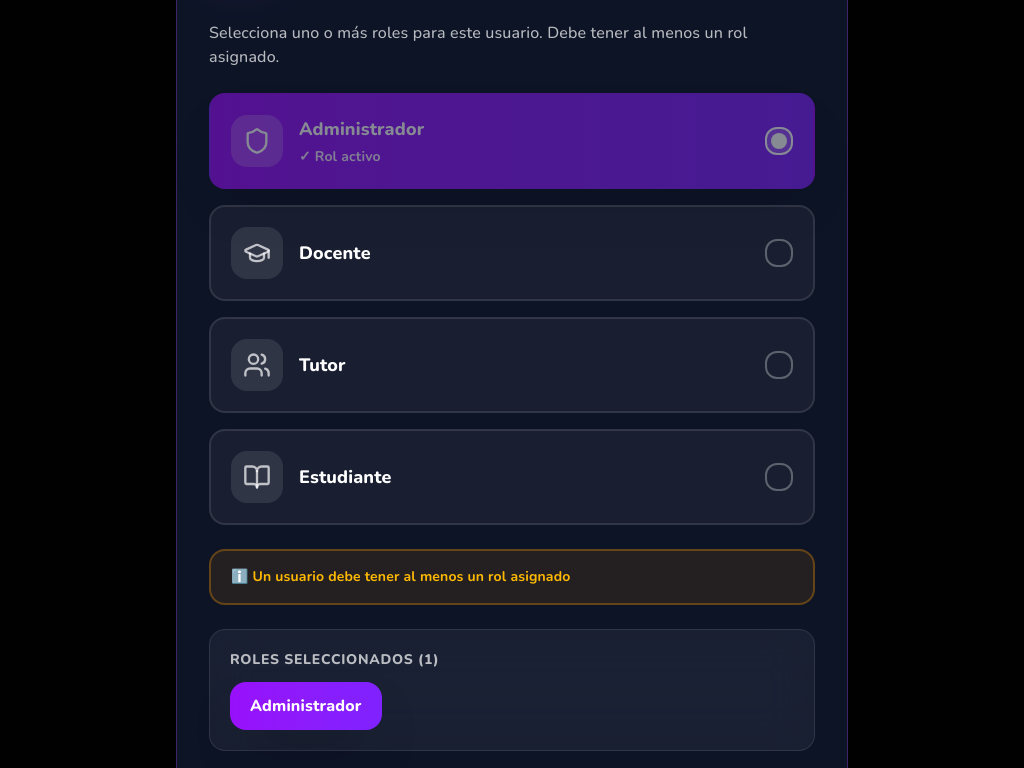
it: MultiRoleModal › Interacciones › selecciona un rol adicional al hacer click
This screenshot has width=1024, height=768.
Expected: the text "Roles seleccionados (1)" is shown, [230,650,439,669]
# Agregar rol Docente
Click the button "Docente".
click(257, 253)  # box [209,205,815,301]
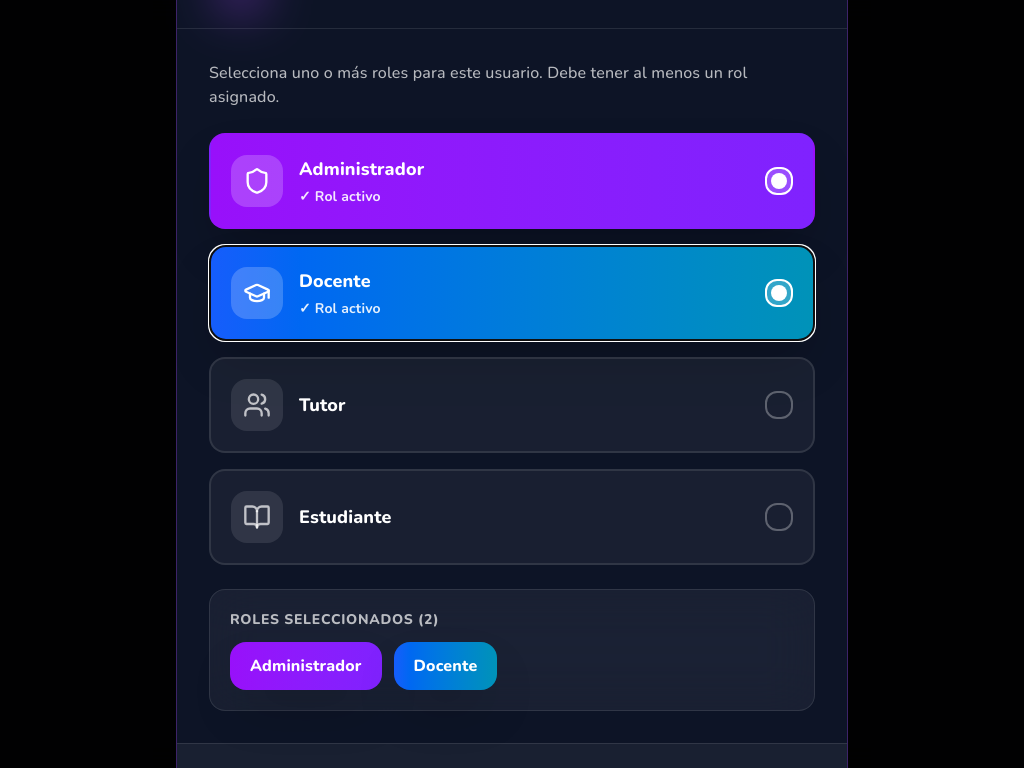
Expected: the text "Roles seleccionados (2)" is shown, [230,610,439,629]
